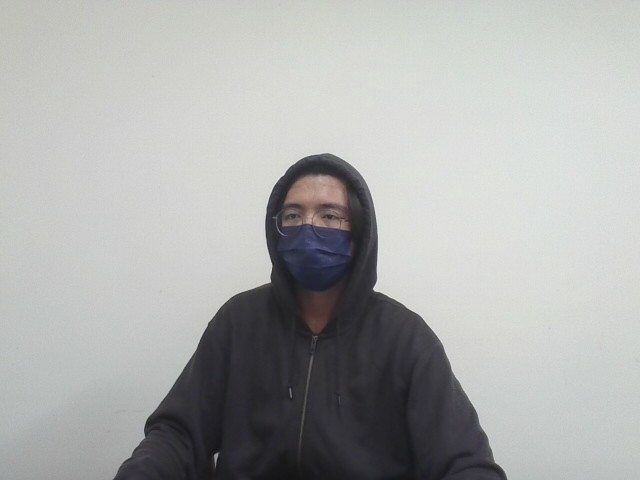No_Helmet: (261, 148, 380, 295)
person: (69, 136, 554, 480)
